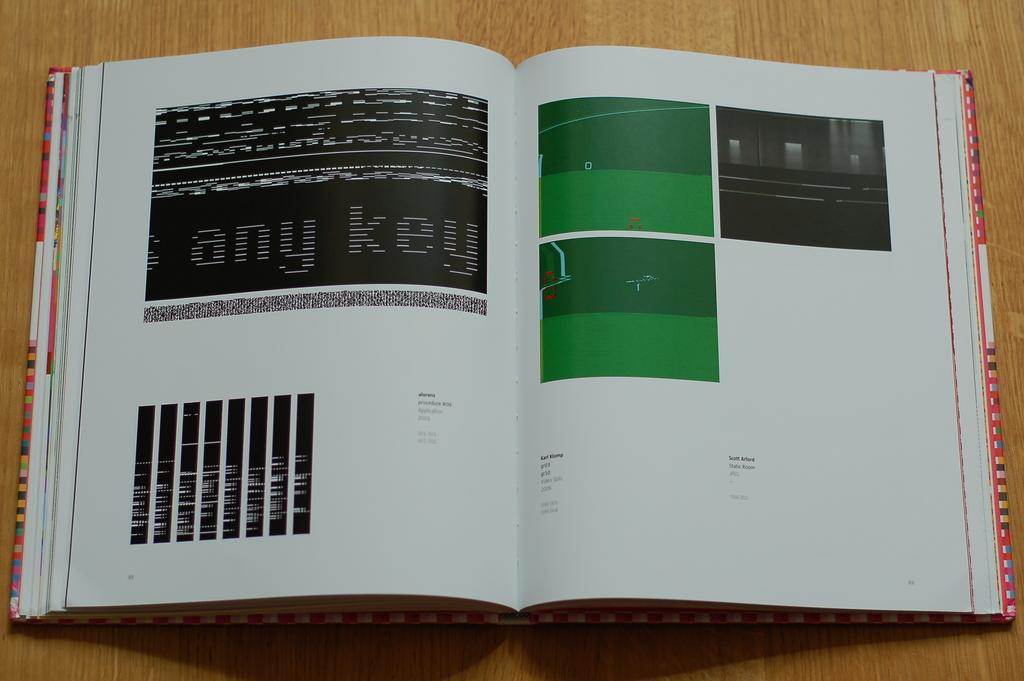book: (27, 50, 1012, 628)
